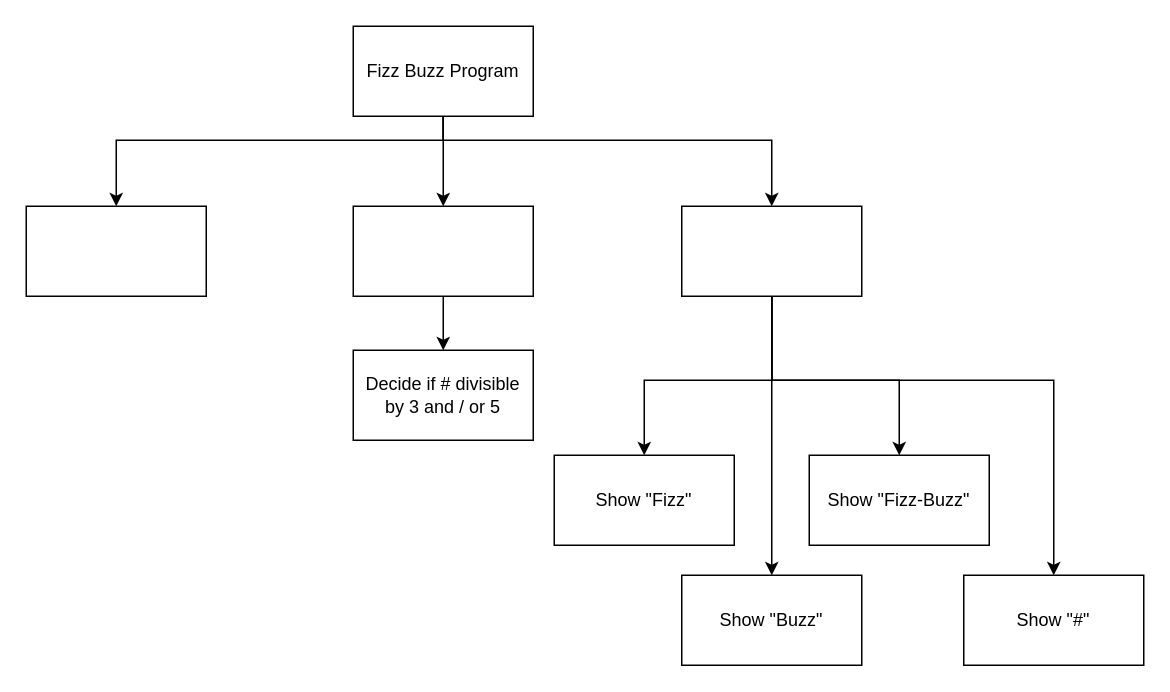
Image size: 1170x692. Some labels were removed from this diagram. The centre of each missing label's shape, as x and y in pixels:
"Input" belongs at pixel 115 250.
"Output" belongs at pixel 771 250.
"Process" belongs at pixel 442 250.
